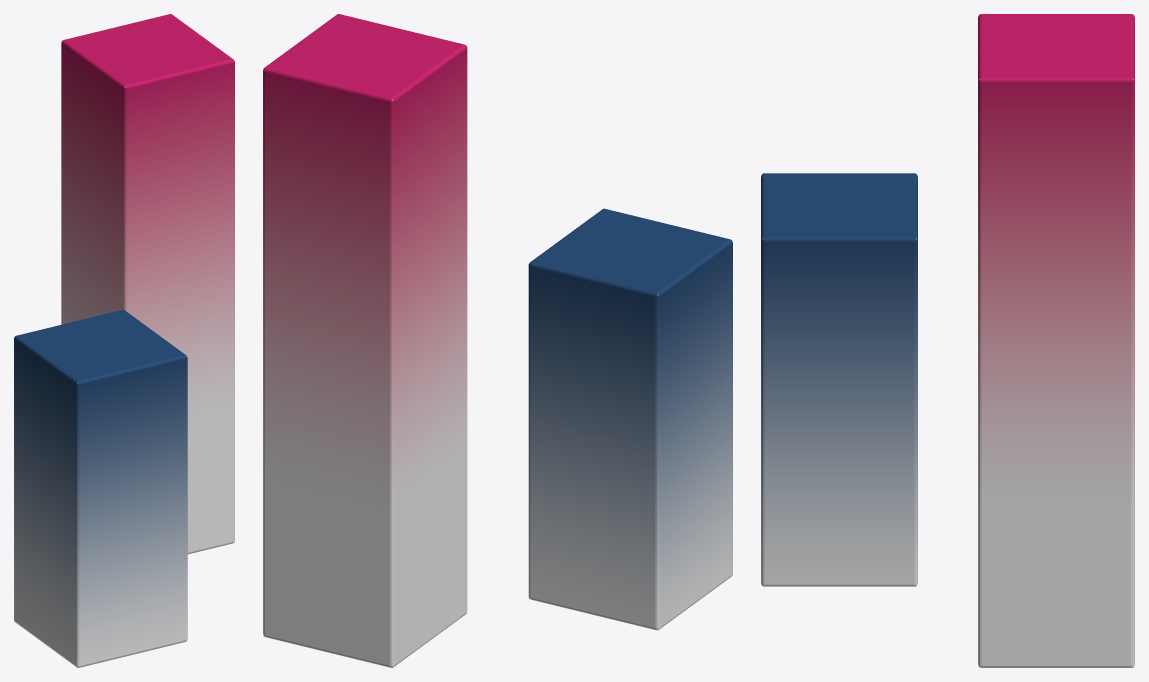
File: gltf_test_07.gltf
The picture shows the model from 3 angles, left to right: view 1: azimuth 30°, elevation 25°; view 2: azimuth 150°, elevation 25°; view 3: azimuth 270°, elevation 25°; orthographic projection. The views are drawn at different scales.
Visible parts, largest first — view 1: Graf; view 2: Graf; view 3: Graf.
Part boxes in pixels (bbox=[...]): Graf: bbox=[14, 14, 234, 667]; Graf: bbox=[263, 14, 732, 667]; Graf: bbox=[761, 14, 1134, 667].
Size of the model in its own units: 2.89 by 5.4 by 3.1.
Materials: 2 (2 with a texture image).
